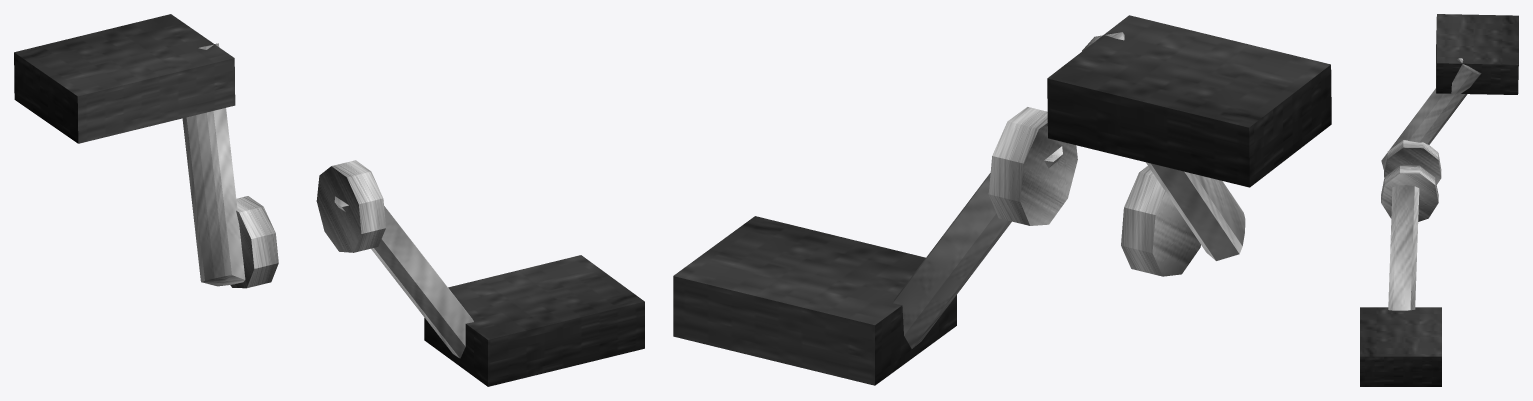
File: Bikepedals.fbx
The picture shows the model from 3 angles, left to right: view 1: azimuth 30°, elevation 25°; view 2: azimuth 150°, elevation 25°; view 3: azimuth 270°, elevation 25°; orthographic projection. The views are drawn at different scales.
Parts seen in each view (by area): view 1: pCube3, pCube1, pCylinder6, pCylinder3, pCylinder2, pCylinder7; view 2: pCube3, pCube1, pCylinder2, pCylinder3, pCylinder7, pCylinder6; view 3: pCube1, pCube3, pCylinder3, pCylinder6, pCylinder2, pCylinder7.
Part boxes in pixels (bbox=[...]): pCube3: bbox=[14, 14, 235, 143]; pCube1: bbox=[424, 255, 644, 386]; pCylinder6: bbox=[182, 43, 245, 286]; pCylinder3: bbox=[334, 196, 473, 358]; pCylinder2: bbox=[316, 160, 385, 252]; pCylinder7: bbox=[230, 196, 278, 288]; pCube3: bbox=[1047, 15, 1331, 187]; pCube1: bbox=[673, 216, 956, 385]; pCylinder2: bbox=[988, 107, 1077, 225]; pCylinder3: bbox=[893, 146, 1062, 348]; pCylinder7: bbox=[1121, 166, 1200, 276]; pCylinder6: bbox=[1082, 32, 1245, 260]; pCube1: bbox=[1360, 307, 1441, 386]; pCube3: bbox=[1436, 14, 1518, 94]; pCylinder3: bbox=[1388, 185, 1419, 310]; pCylinder6: bbox=[1381, 58, 1481, 169]; pCylinder2: bbox=[1381, 165, 1438, 221]; pCylinder7: bbox=[1384, 140, 1441, 184].
Size of the model in its own units: 3.96 by 2.49 by 1.67.
